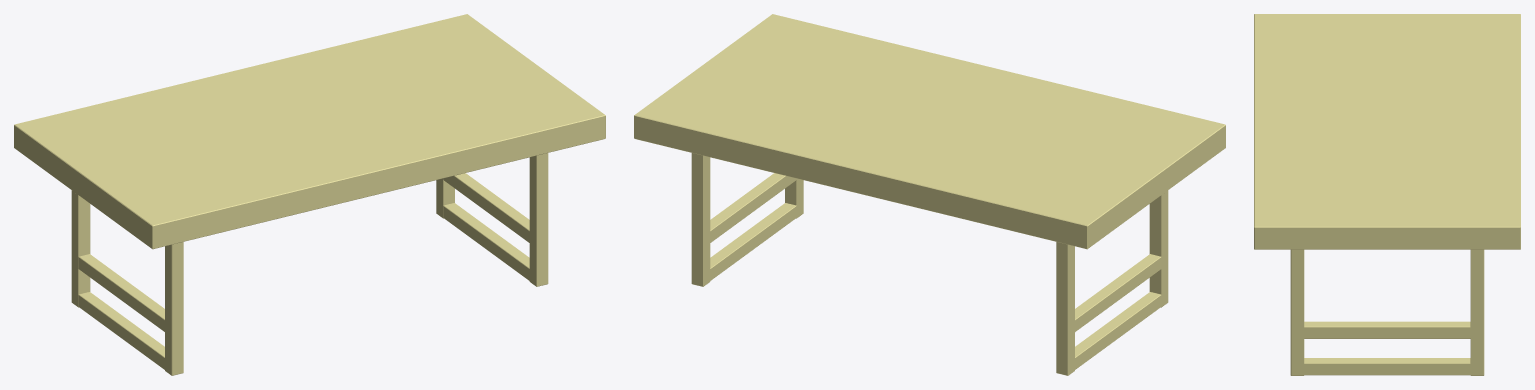
The model's file is table.fbx.
The picture shows the model from 3 angles, left to right: view 1: azimuth 30°, elevation 25°; view 2: azimuth 150°, elevation 25°; view 3: azimuth 270°, elevation 25°; orthographic projection. The views are drawn at different scales.
Parts seen in each view (by area): view 1: WoodKitchenTable1; view 2: WoodKitchenTable1; view 3: WoodKitchenTable1.
Part boxes in pixels (box(x1,y1,x2,y2)): WoodKitchenTable1: box(14, 14, 605, 375); WoodKitchenTable1: box(634, 14, 1225, 375); WoodKitchenTable1: box(1254, 14, 1520, 375).
Size of the model in its own units: 128 by 88.58 by 242.
